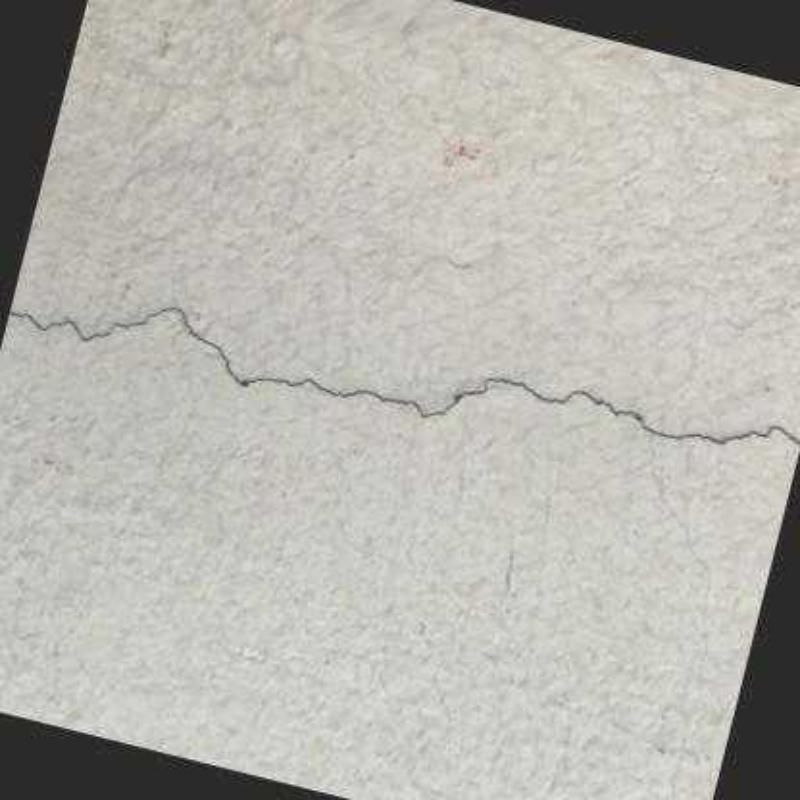pothole: (9, 306, 800, 450)
